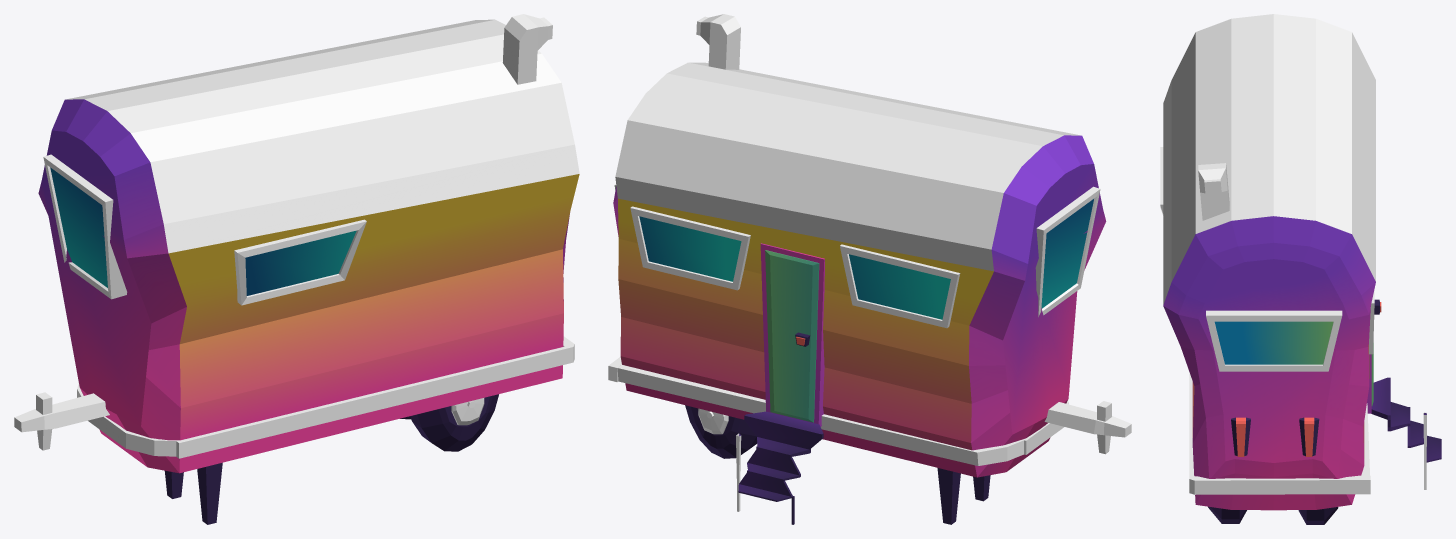
File: DetailedCaravanTest.fbx
The picture shows the model from 3 angles, left to right: view 1: azimuth 30°, elevation 25°; view 2: azimuth 150°, elevation 25°; view 3: azimuth 270°, elevation 25°; orthographic projection. The views are drawn at different scales.
Visible parts, largest first — view 1: CaravanBody; view 2: CaravanBody; view 3: CaravanBody.
Boxes of the visible parts, x1=… form: CaravanBody: x1=14, y1=14, x2=579, y2=524; CaravanBody: x1=608, y1=14, x2=1131, y2=524; CaravanBody: x1=1160, y1=14, x2=1441, y2=524.
Size of the model in its own units: 413 by 808 by 650.
